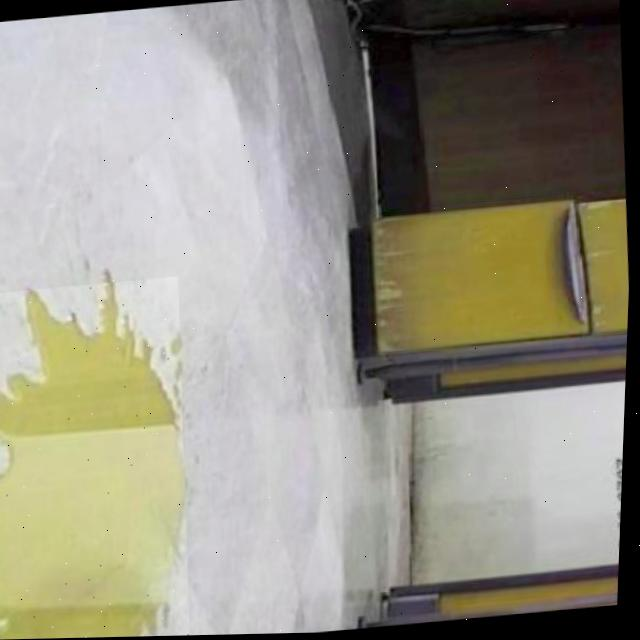spillage: (0, 290, 187, 640)
